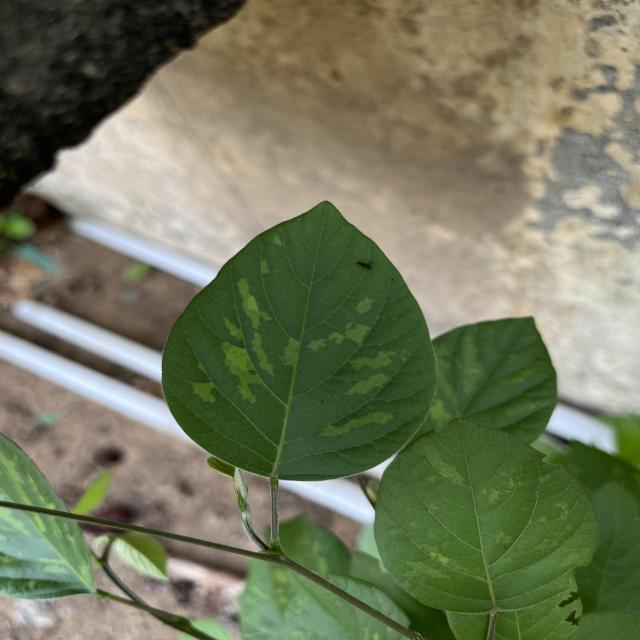Desmodium gangeticum: (159, 197, 442, 483), (371, 413, 604, 617)
